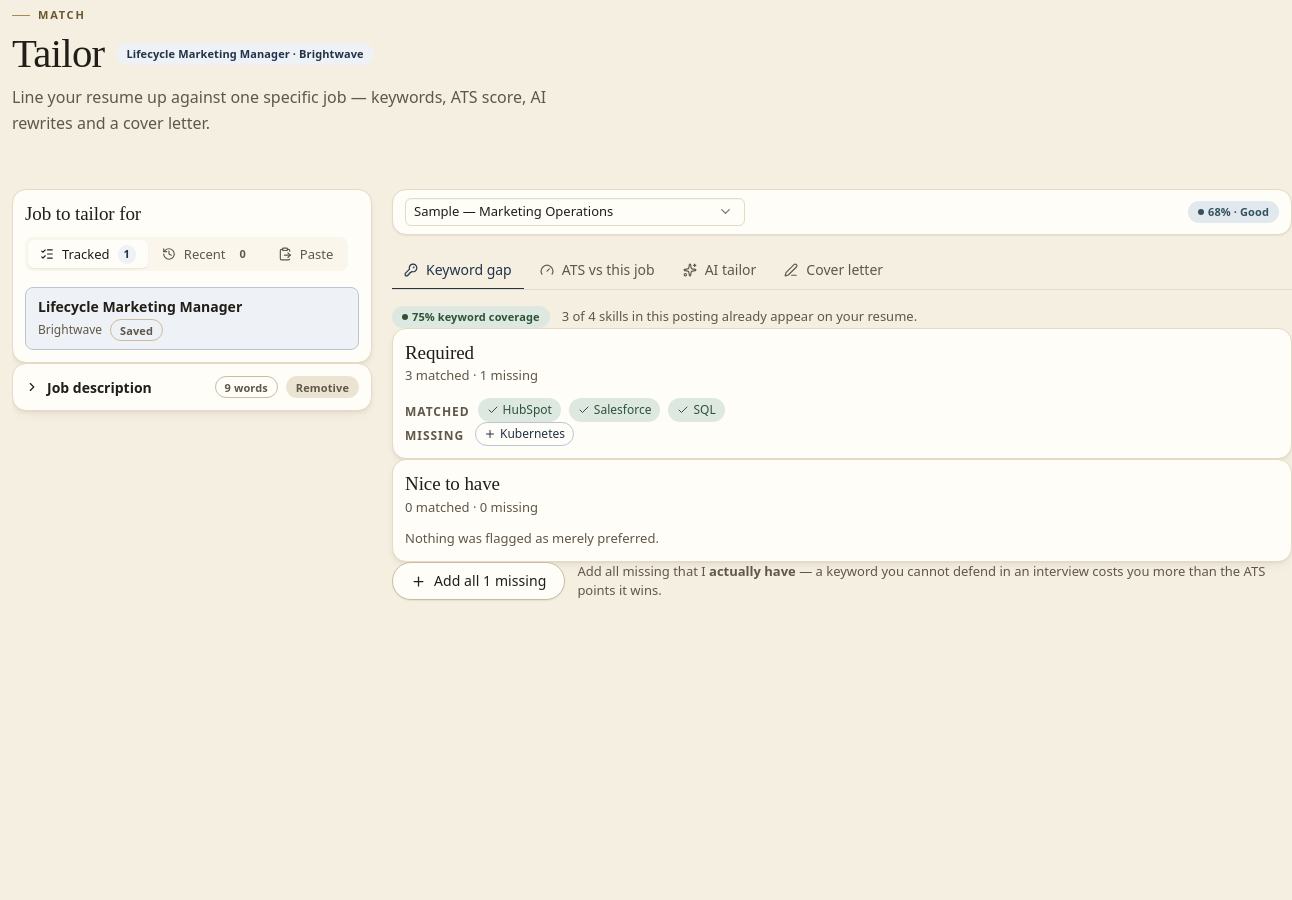
Tailor route preselect › shows the ATS report against the posting
Click the tab "ATS vs this job" at x=597, y=270, box left=528, top=251, right=667, bottom=290
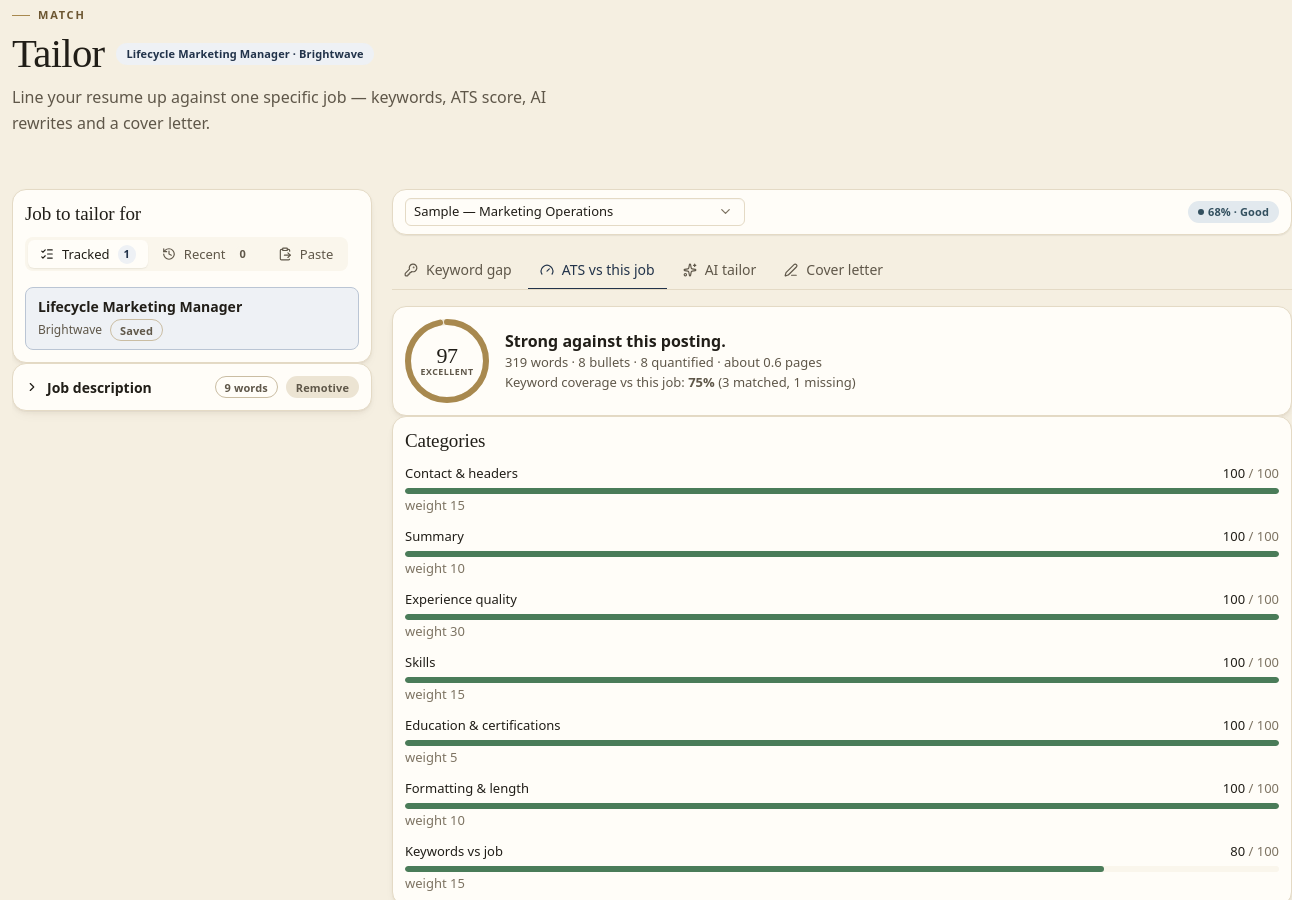
Result: the text "Keyword coverage vs this job: 75% (3 matched, 1 missing)" is shown at left=505, top=373, right=856, bottom=391
Result: the heading "Categories" is shown at left=405, top=430, right=485, bottom=451
